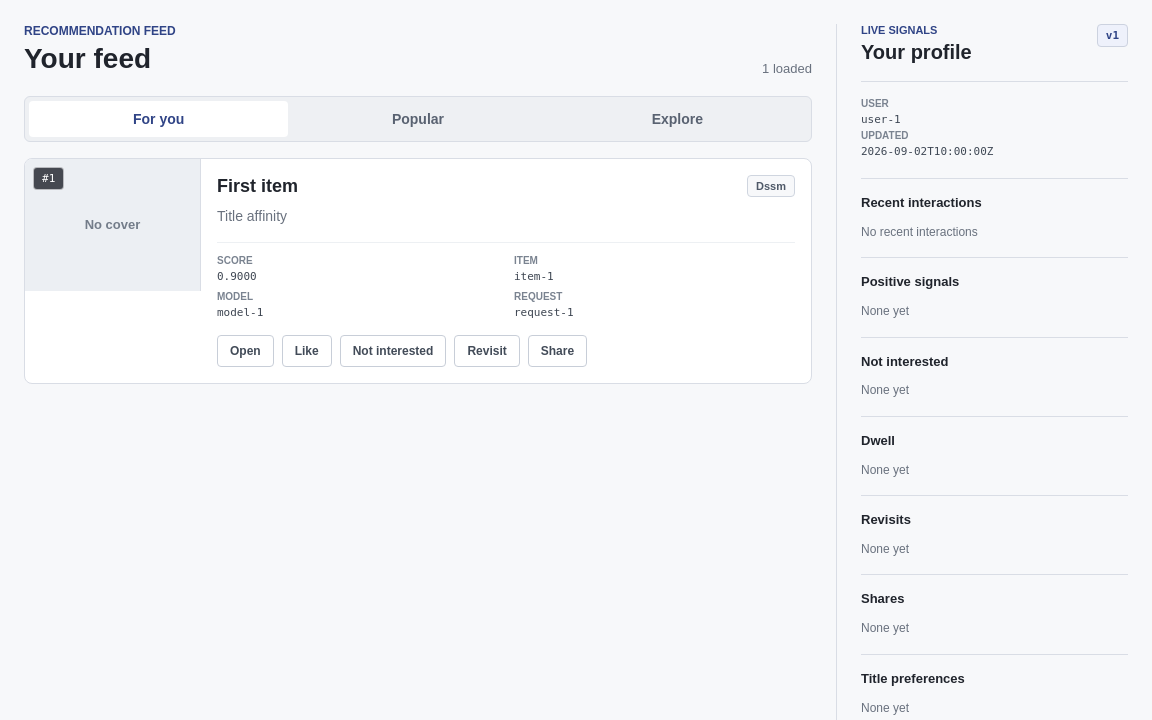
Scenario: FeedExperience behavior refresh › refreshes profile and requests a cursor-free personalized snapshot after accepted
Click the button "Like". click: (307, 351)
box: [282,335,332,367]
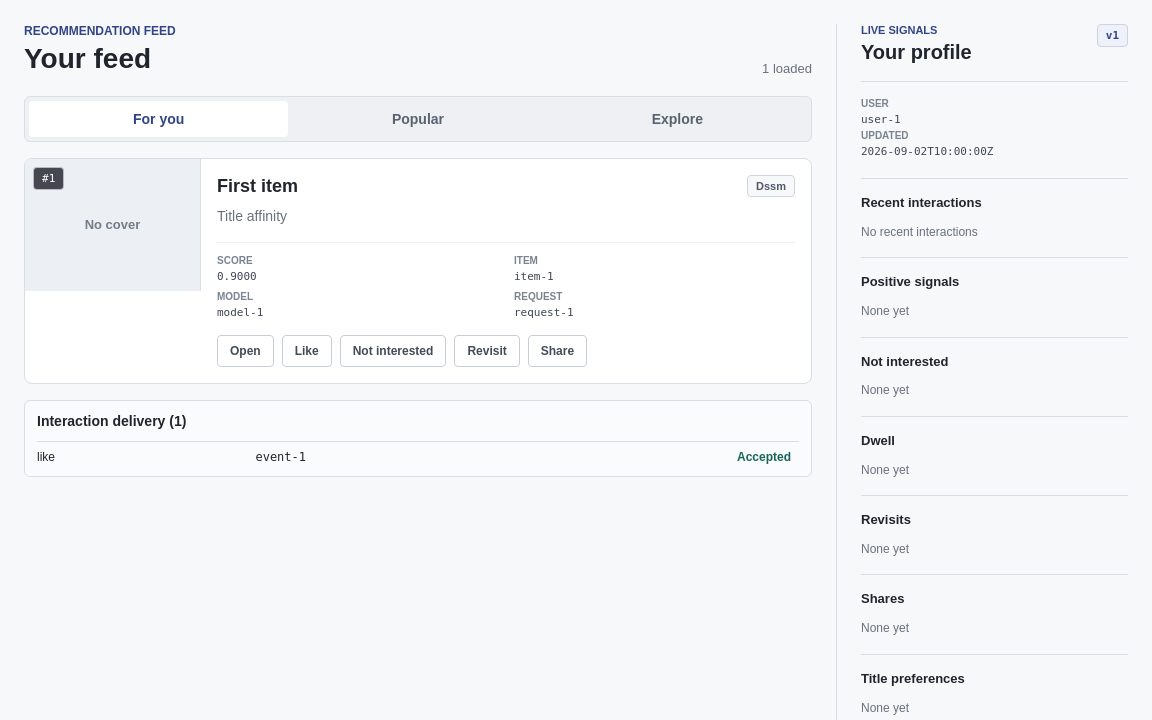
Expected: the text "accepted" is shown, [737,450,791,464]
